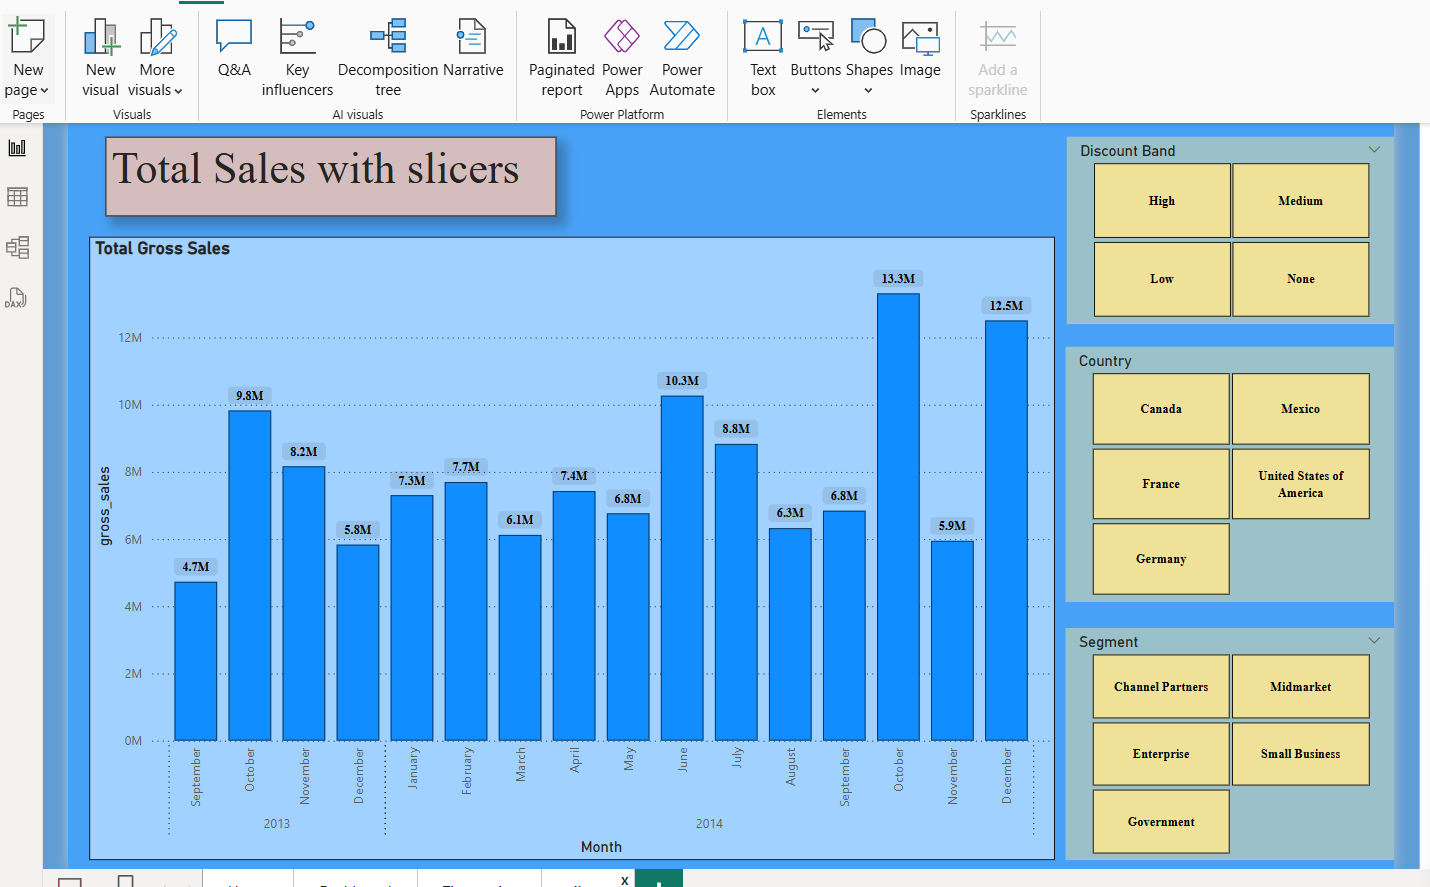

The page's visual inventory and layout, read from the dashboard file:
{"tool":"powerbi","page":{"name":"slicers","canvas":[1280,720],"ordinal":3},"visuals":[{"type":"clusteredColumnChart","title":"Total Gross Sales","fields":{"Y":["Dax_Measures.gross_sales"],"Category":["calender.Date.Variation.Date Hierarchy.Year","calender.Date.Variation.Date Hierarchy.Month"]},"box":[20.8,110.1,931.8,601.6],"z":0},{"type":"slicer","fields":{"Values":["Discount Band.Discount Band"]},"box":[963.9,13.3,316.1,181],"z":1},{"type":"slicer","fields":{"Values":["Country.Country"]},"box":[962.7,216,317.3,246.1],"z":2},{"type":"slicer","fields":{"Values":["Segment.Segment"]},"box":[962.7,487.4,317.3,224.4],"z":3},{"type":"textbox","box":[36.7,13.5,435.3,77],"z":4}]}

Visuals, with their boxes on the page's 1280x720 design canvas (x1, y1, x2, y2). These are canvas units, not pixel positions in the 1430x887 screenshot, which may show the page scaled, cropped or inside an application window:
"Total Gross Sales" clusteredColumnChart: left=21, top=110, right=953, bottom=712
slicer - Discount Band.Discount Band: left=964, top=13, right=1280, bottom=194
slicer - Country.Country: left=963, top=216, right=1280, bottom=462
slicer - Segment.Segment: left=963, top=487, right=1280, bottom=712
textbox: left=37, top=14, right=472, bottom=90
